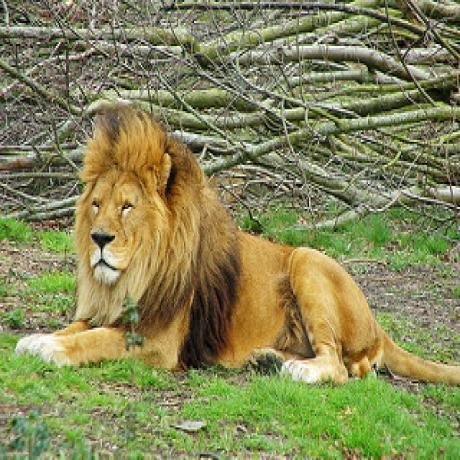Lion: (20, 109, 394, 388)
